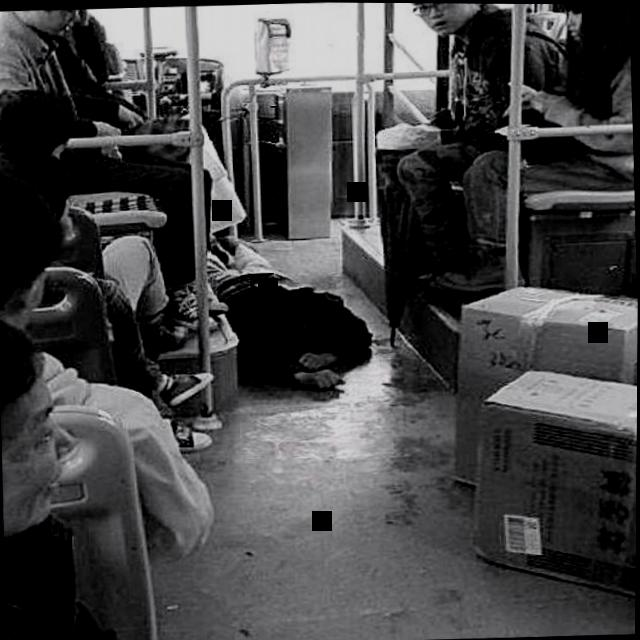Fall-Detected: (165, 214, 381, 402)
